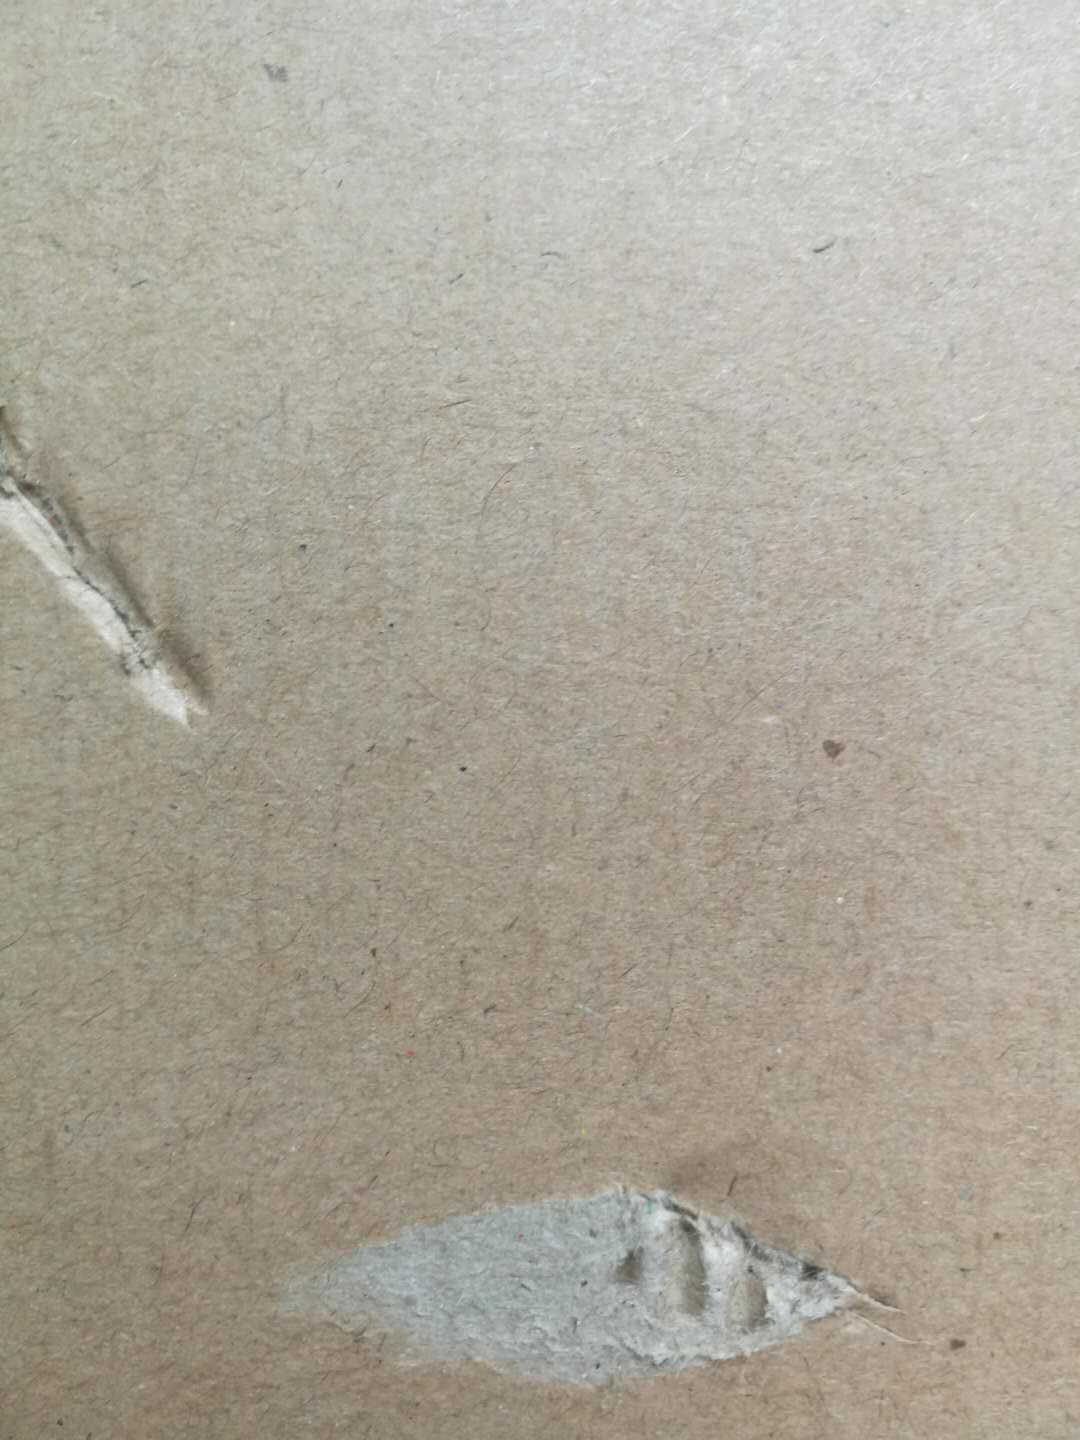defect: (245, 1142, 1003, 1415), (3, 355, 255, 772)
